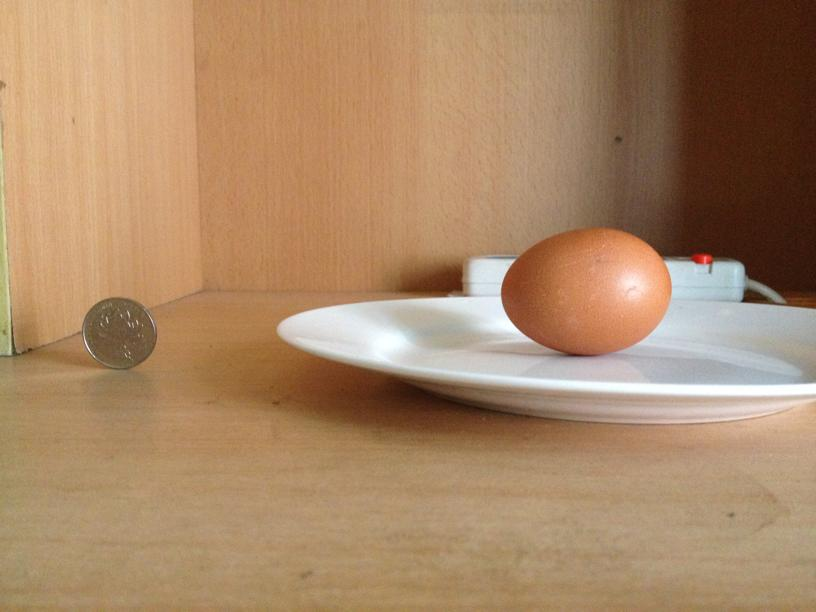coin: (80, 294, 156, 370)
egg: (502, 225, 670, 354)
